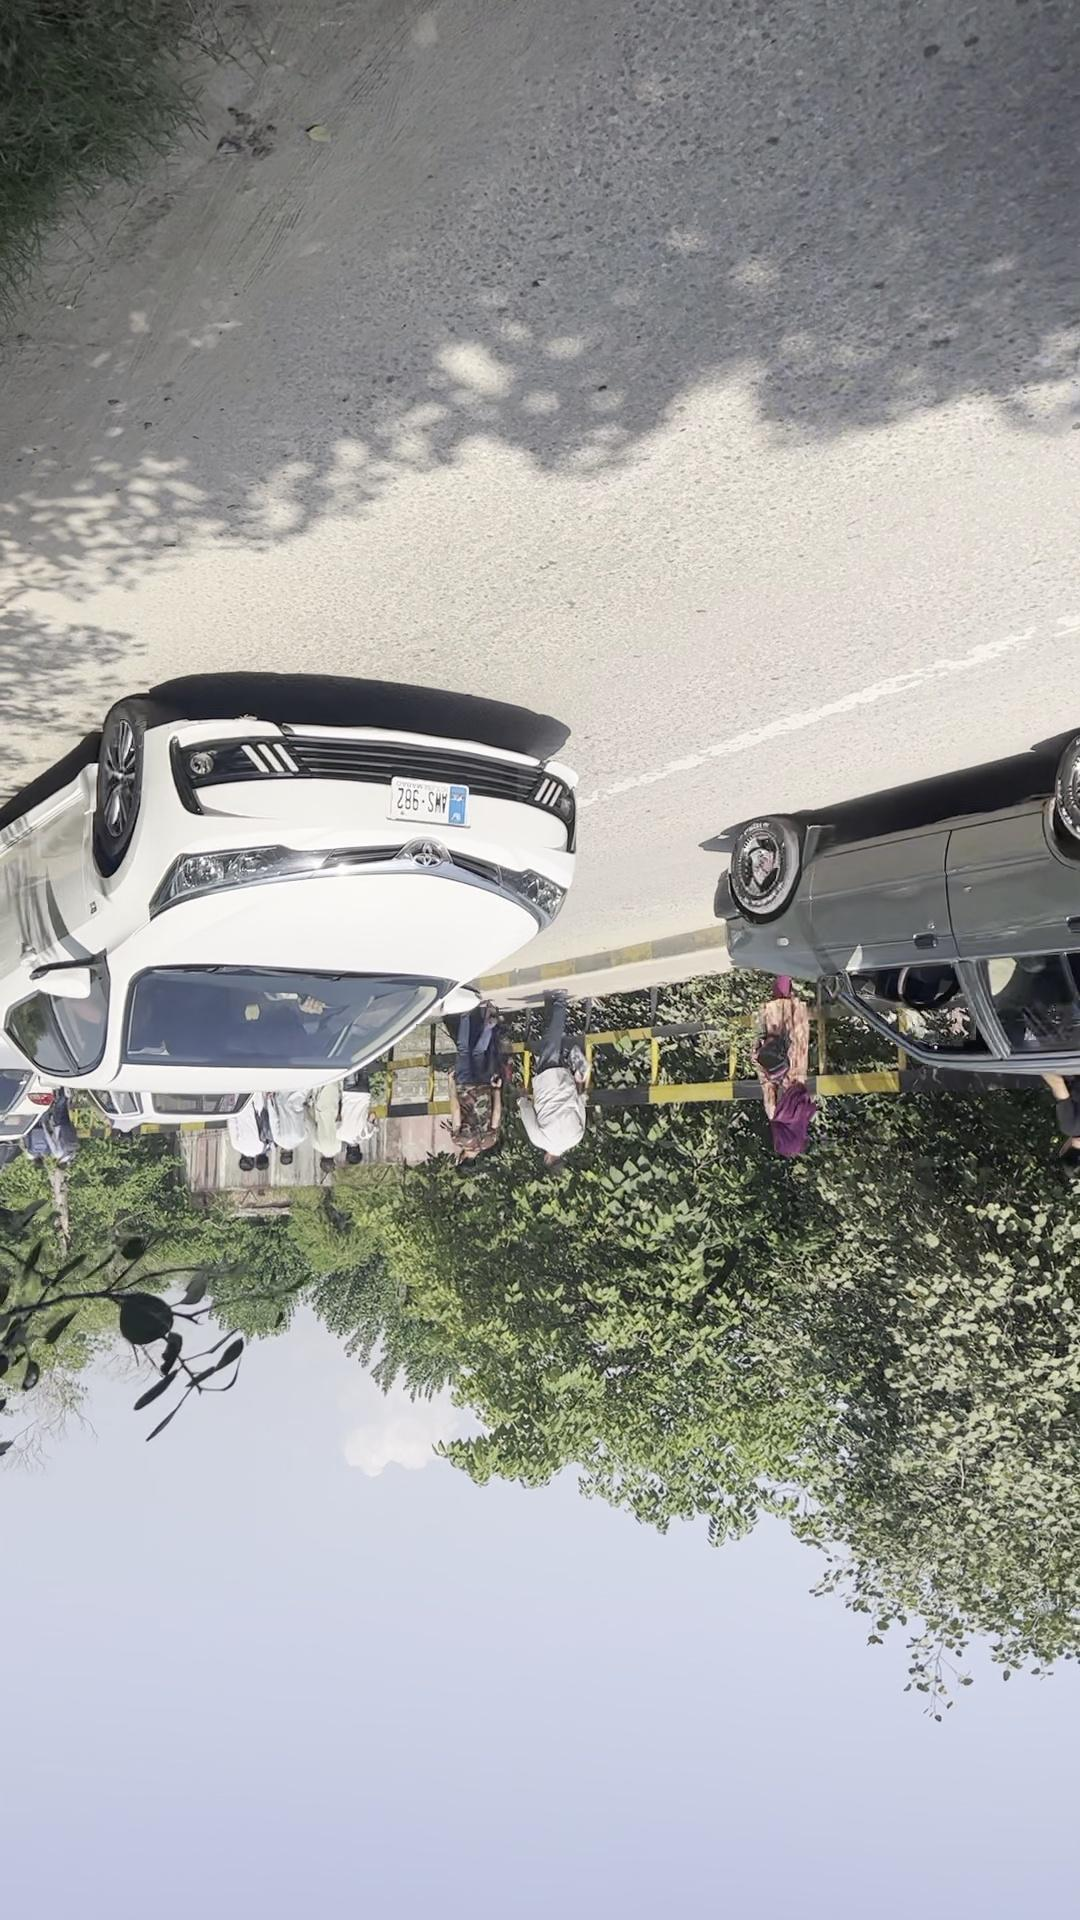windshield: (576, 820, 971, 990)
